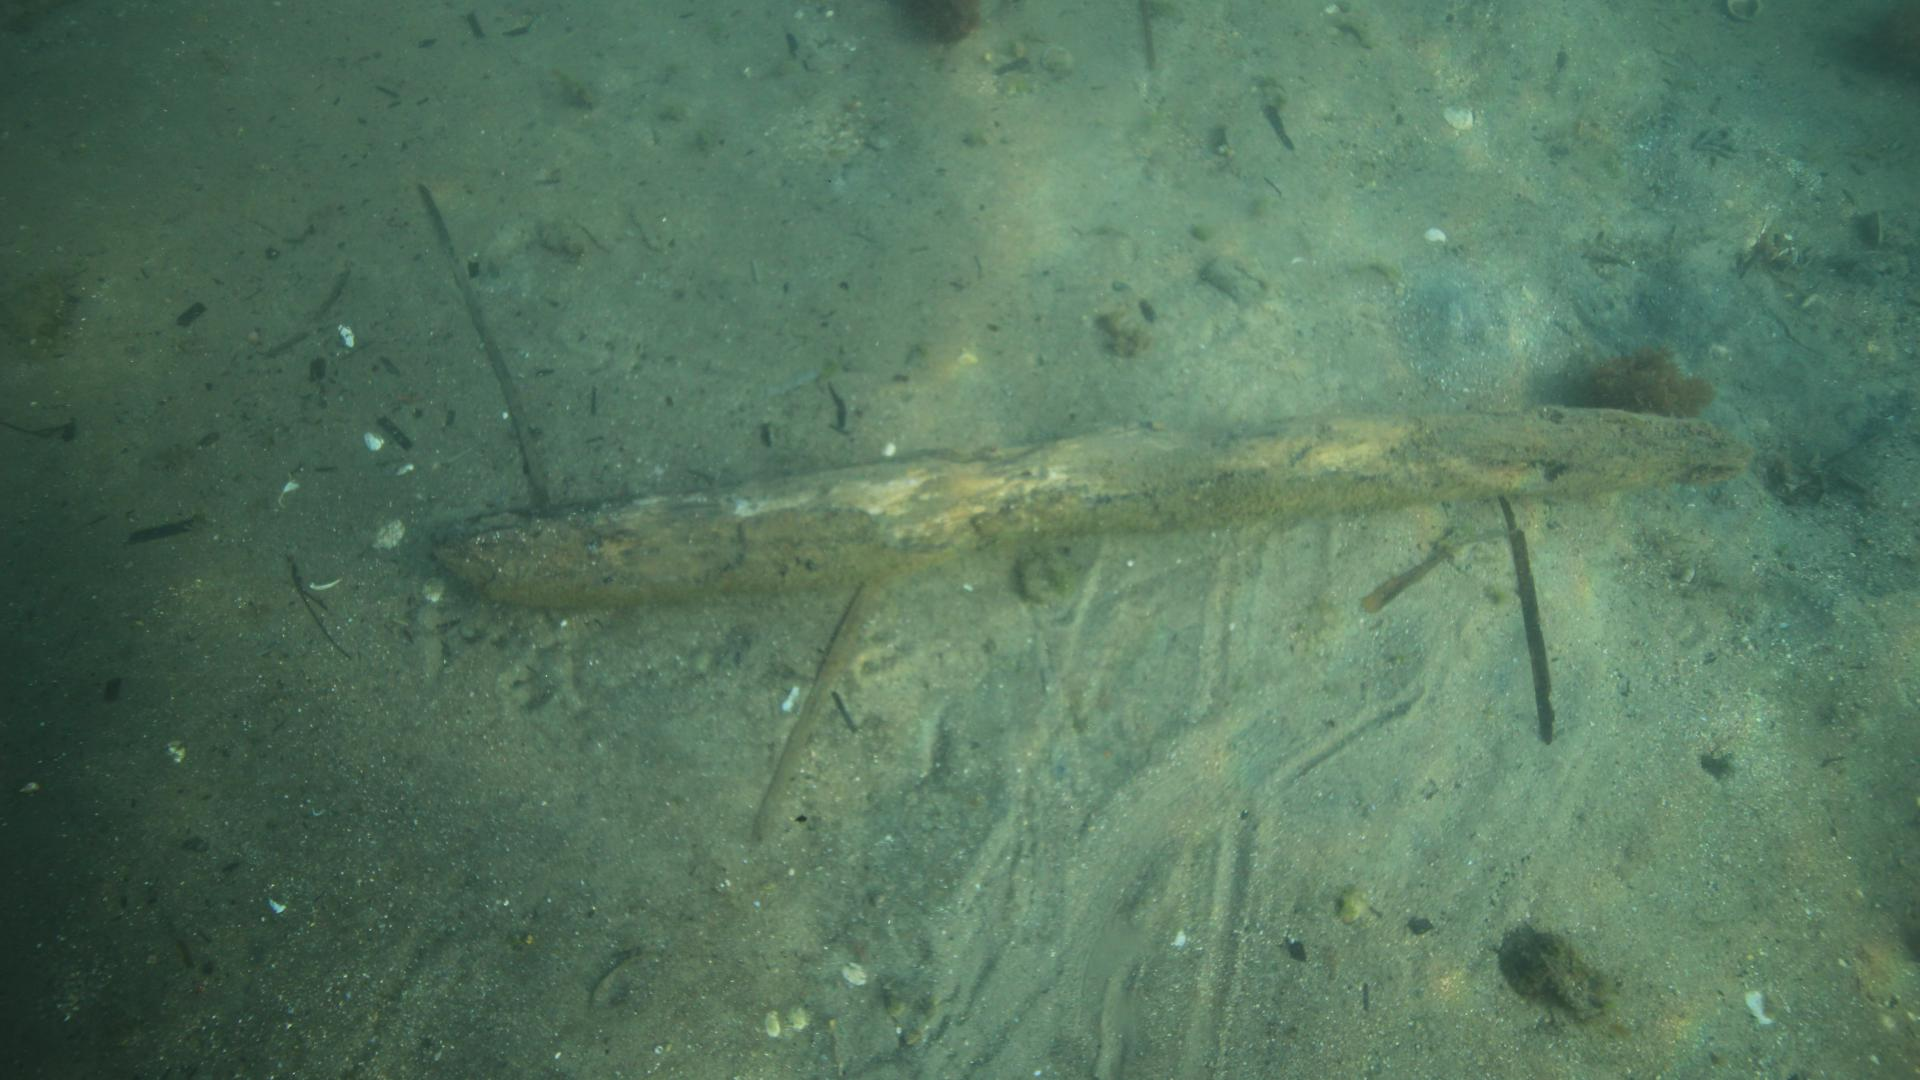wood: (427, 400, 1745, 617)
